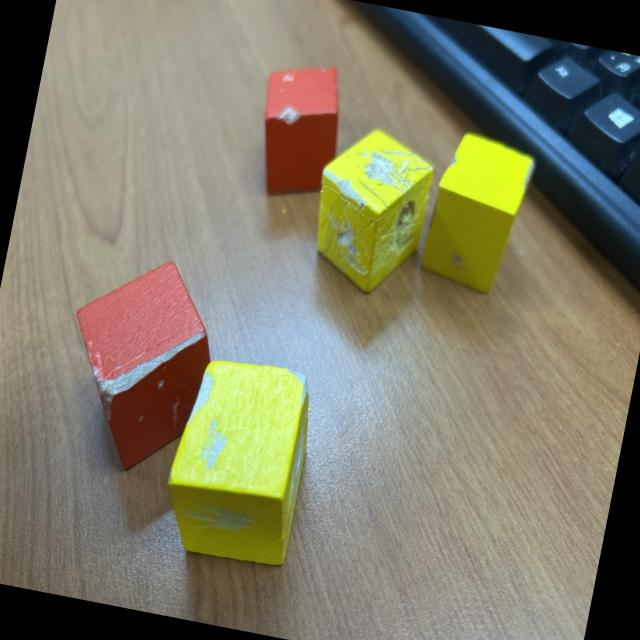broken: (48, 244, 230, 483), (154, 348, 323, 571), (300, 118, 441, 302), (417, 127, 540, 300), (245, 54, 352, 208)
